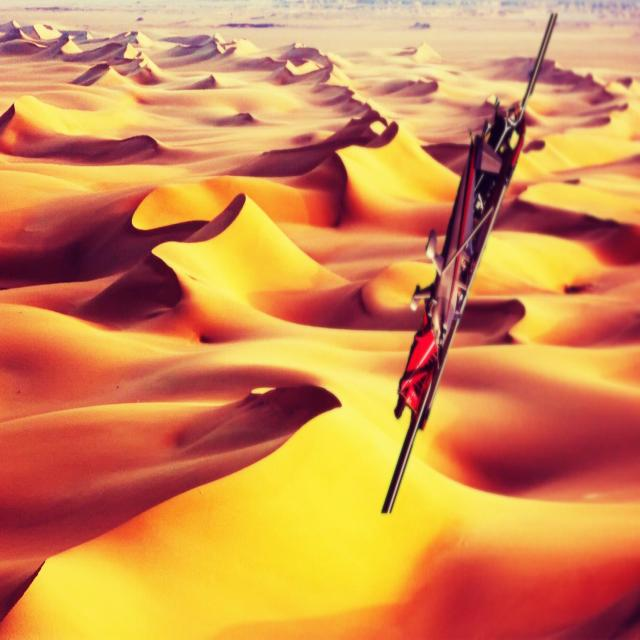airplane: (380, 10, 558, 514)
